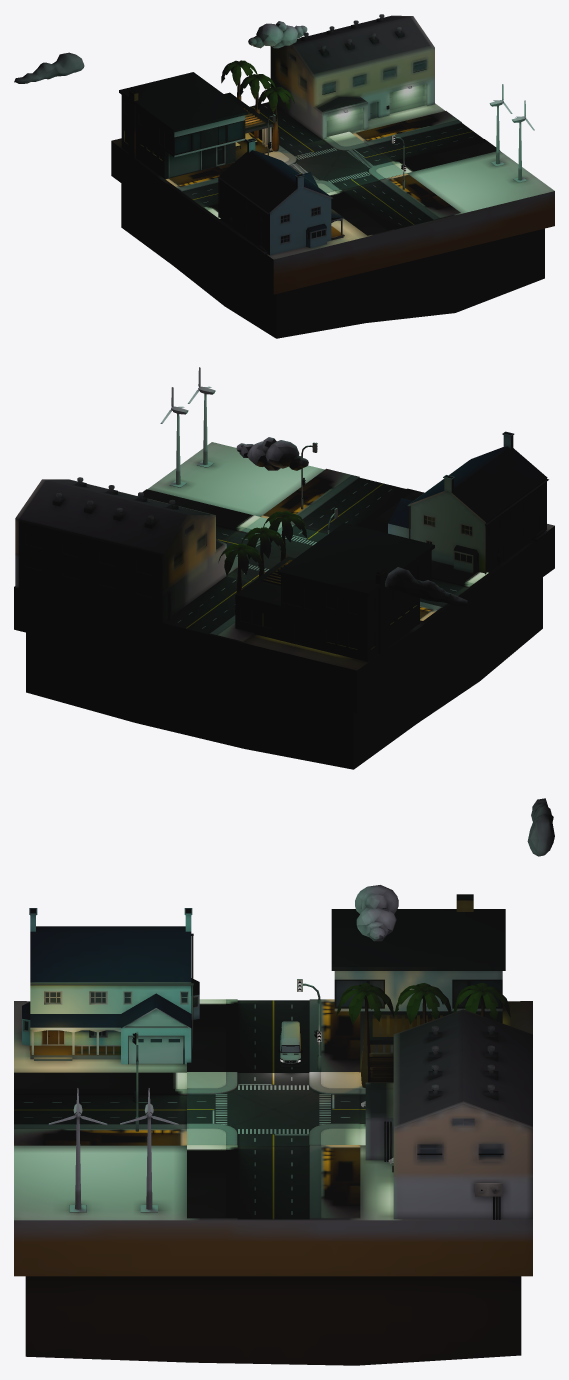
3 views of the same model, one above another, from view 1: azimuth 30°, elevation 25°; view 2: azimuth 150°, elevation 25°; view 3: azimuth 270°, elevation 25° (orthographic). The views are drawn at different scales.
Parts seen in each view (by area): view 1: world-field_Baked, industry-building_Baked, building-house-modern_Baked, building-house-family-large_Baked, tile-mainroad-straight-nb_Baked, tile-mainroad-straight-nb.002_Baked, tile-mainroad-intersection-nb_Baked, tile-mainroad-straight-nb.001_Baked, tile-mainroad-straight-nb.003_Baked, cloud-big_Baked, cloud-long_Baked, palm_Baked (+2 smaller); view 2: world-field_Baked, industry-building_Baked, building-house-modern_Baked, building-house-family-large_Baked, tile-mainroad-straight-nb.002_Baked, tile-mainroad-straight-nb.003_Baked, tile-mainroad-intersection-nb_Baked, tile-mainroad-straight-nb_Baked, cloud-big_Baked, tile-mainroad-straight-nb.001_Baked, cloud-long_Baked, palm.001_Baked (+2 smaller); view 3: world-field_Baked, industry-building_Baked, building-house-family-large_Baked, building-house-modern_Baked, tile-mainroad-straight-nb_Baked, tile-mainroad-intersection-nb_Baked, tile-mainroad-straight-nb.002_Baked, tile-mainroad-straight-nb.001_Baked, cloud-big_Baked, palm_Baked, palm.002_Baked, cloud-long_Baked (+3 smaller).
Part boxes in pixels (x1,y1,x2,y2): world-field_Baked: (111,103,554,338); industry-building_Baked: (270,14,434,139); building-house-modern_Baked: (119,72,272,178); building-house-family-large_Baked: (217,138,344,255); tile-mainroad-straight-nb_Baked: (353,111,499,173); tile-mainroad-straight-nb.002_Baked: (326,173,460,235); tile-mainroad-intersection-nb_Baked: (266,134,405,192); tile-mainroad-straight-nb.001_Baked: (165,162,233,218); tile-mainroad-straight-nb.003_Baked: (248,102,351,154); cloud-big_Baked: (248,21,307,48); cloud-long_Baked: (14,52,84,83); palm_Baked: (258,87,294,151); world-field_Baked: (14,442,554,769); industry-building_Baked: (15,477,226,622); building-house-modern_Baked: (235,523,434,661); building-house-family-large_Baked: (388,431,548,574); tile-mainroad-straight-nb.002_Baked: (261,468,424,533); tile-mainroad-straight-nb.003_Baked: (163,574,254,641); tile-mainroad-intersection-nb_Baked: (226,517,327,580); tile-mainroad-straight-nb_Baked: (138,489,260,543); cloud-big_Baked: (236,437,308,470); tile-mainroad-straight-nb.001_Baked: (420,560,488,620); cloud-long_Baked: (385,567,467,606); palm.001_Baked: (218,543,262,612); world-field_Baked: (14,1001,532,1365); industry-building_Baked: (361,1009,532,1219); building-house-family-large_Baked: (22,908,199,1064); building-house-modern_Baked: (331,894,505,1052); tile-mainroad-straight-nb_Baked: (187,1145,360,1219); tile-mainroad-intersection-nb_Baked: (187,1072,359,1145); tile-mainroad-straight-nb.002_Baked: (14,1072,186,1145); tile-mainroad-straight-nb.001_Baked: (187,999,360,1072); cloud-big_Baked: (355,885,398,941); palm_Baked: (336,983,394,1087); palm.002_Baked: (394,983,451,1024); cloud-long_Baked: (527,798,554,856).
Size of the model in its own units: 26.27 by 15.16 by 20.51.
1 material, 1 textured.
